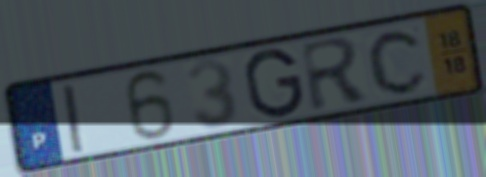3: (187, 55, 239, 134)
6: (124, 66, 179, 143)
C: (365, 26, 431, 97)
G: (242, 46, 307, 121)
I: (59, 81, 90, 156)
R: (297, 34, 374, 115)
